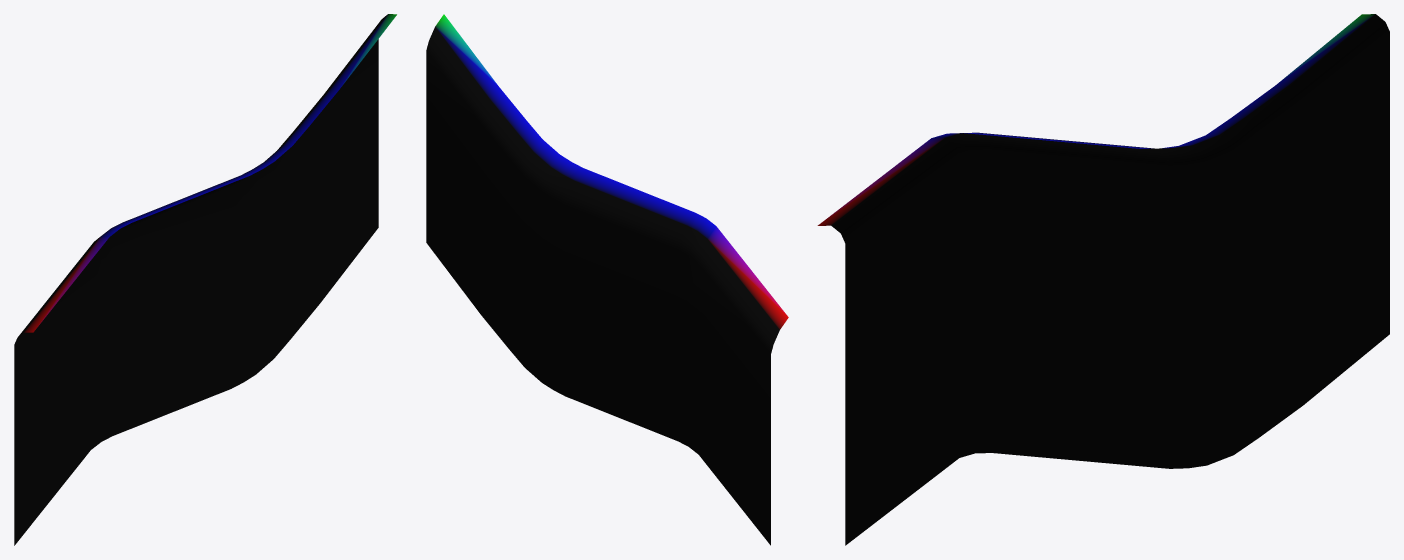
The model's file is 3DSlope03.fbx.
3 renders of one model, left to right at view 1: azimuth 30°, elevation 25°; view 2: azimuth 150°, elevation 25°; view 3: azimuth 330°, elevation 25°, orthographic. The views are drawn at different scales.
Parts seen in each view (by area): view 1: polySurface3; view 2: polySurface3; view 3: polySurface3.
Boxes of the visible parts, <box> form: polySurface3: <box>14,14,396,545</box>; polySurface3: <box>426,14,788,545</box>; polySurface3: <box>817,14,1389,545</box>.
Size of the model in its own units: 8701 by 10452 by 804.
